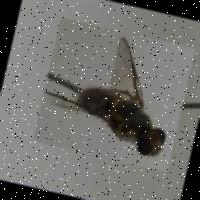Oriental-fruit-fly: (31, 16, 194, 170)
